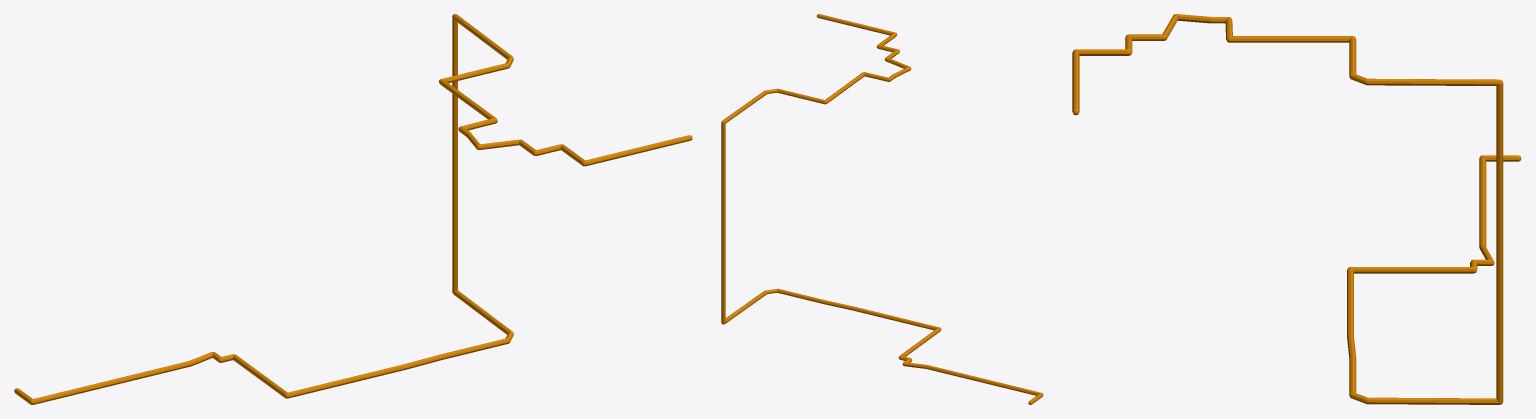
The picture shows the model from 3 angles, left to right: view 1: azimuth 30°, elevation 25°; view 2: azimuth 150°, elevation 25°; view 3: azimuth 270°, elevation 25°; orthographic projection. The views are drawn at different scales.
Size of the model in its own units: 1852 by 1020 by 1276.
